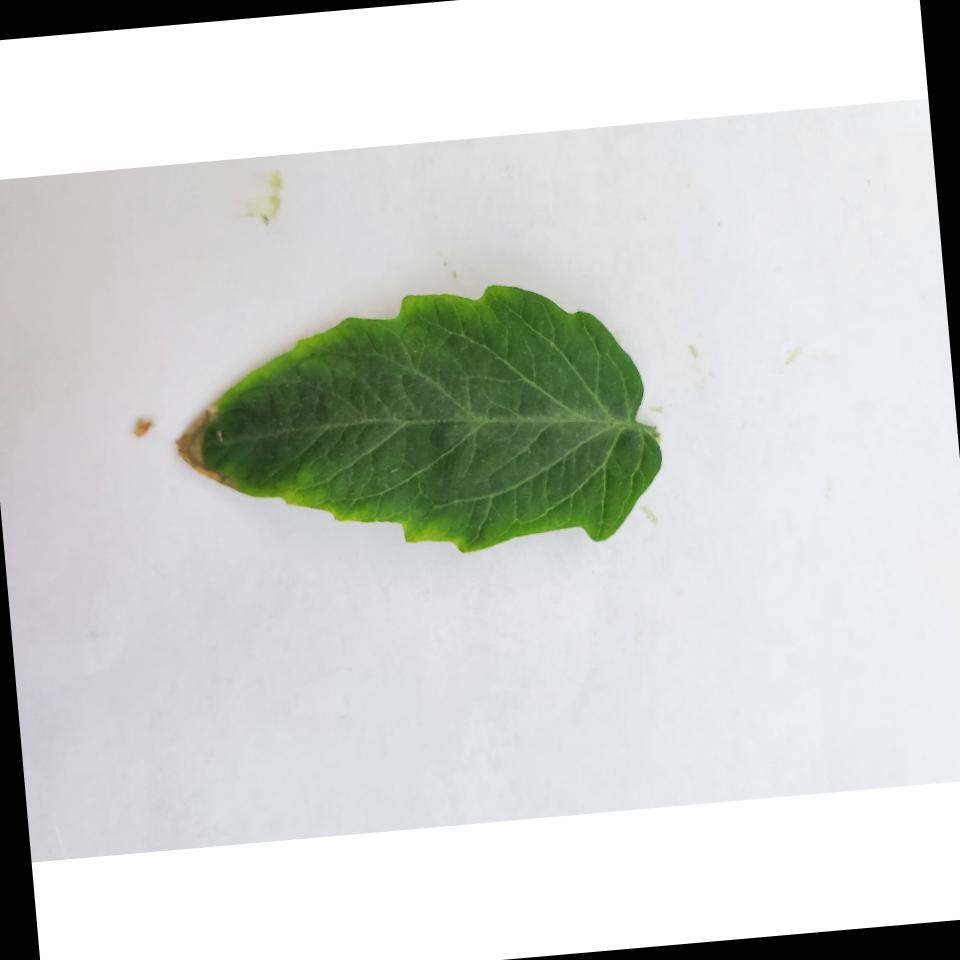tomato_leaves: (198, 262, 670, 579)
